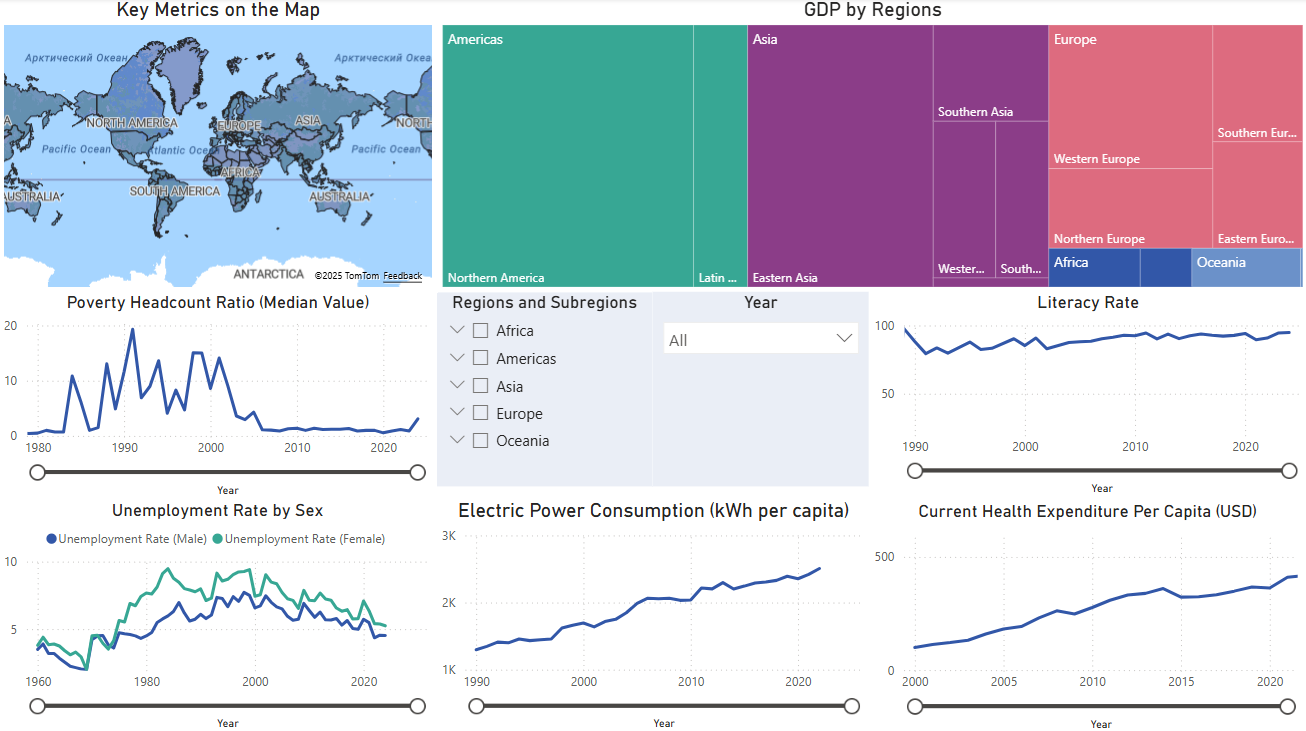

The dashboard page shown, as its layout file describes it:
{"tool":"powerbi","page":{"name":"Economics","canvas":[1280,720],"ordinal":0},"visuals":[{"type":"slicer","title":"Regions and Subregions","fields":{"Values":["regions.region","regions.sub-region"]},"box":[428,287.4,211.6,190.8],"z":0},{"type":"lineChart","title":"Electric Power Consumption (kWh per capita)","fields":{"Y":["Median(df_economics.electric_power_consumption)"],"Category":["df_economics.year"]},"box":[428,490.4,424.3,229.9],"z":1000},{"type":"lineChart","title":"Unemployment Rate by Sex","fields":{"Category":["df_economics.year"],"Y":["Median(df_economics.male_unemployment_rate)","Median(df_economics.female_unemployment_rate)"]},"box":[0,490.4,428,229.9],"z":2000},{"type":"lineChart","title":"Poverty Headcount Ratio (Median Value)","fields":{"Category":["df_economics.year"],"Y":["Median(df_economics.poverty_headcount_ratio)"]},"box":[0,287.4,428,204.2],"z":3000},{"type":"lineChart","title":"Literacy Rate","fields":{"Category":["df_economics.year"],"Y":["Median(df_economics.literacy_rate)"]},"box":[851.1,287.4,429.2,203],"z":4000},{"type":"lineChart","title":"Current Health Expenditure Per Capita (USD)","fields":{"Category":["df_economics.year"],"Y":["Median(df_economics.current_health_expenditure_per_capita)"]},"box":[851.5,491.3,427.6,229.1],"z":5000},{"type":"treemap","title":"GDP by Regions","fields":{"Group":["regions.region"],"Details":["regions.sub-region"],"Values":["df_economics.GDP (Active Year)"]},"box":[428.8,0,851.5,287.9],"z":6000},{"type":"azureMap","title":"Key Metrics on the Map","fields":{"Category":["regions.country_code"]},"box":[0,0,428.8,287.9],"z":7000},{"type":"slicer","title":"Year","fields":{"Values":["df_economics.year"]},"box":[639.5,287.4,211.6,190.8],"z":8000}]}

Visuals, with their boxes in screenshot pixels (x1, y1, x2, y2), scaled from the page's 1280x720 canvas onto the 1306x731 screenshot:
"Regions and Subregions" slicer: 437,292,653,486
"Electric Power Consumption (kWh per capita)" lineChart: 437,498,870,730
"Unemployment Rate by Sex" lineChart: 0,498,437,730
"Poverty Headcount Ratio (Median Value)" lineChart: 0,292,437,499
"Literacy Rate" lineChart: 868,292,1305,498
"Current Health Expenditure Per Capita (USD)" lineChart: 869,499,1305,730
"GDP by Regions" treemap: 438,0,1305,292
"Key Metrics on the Map" azureMap: 0,0,438,292
"Year" slicer: 652,292,868,486
